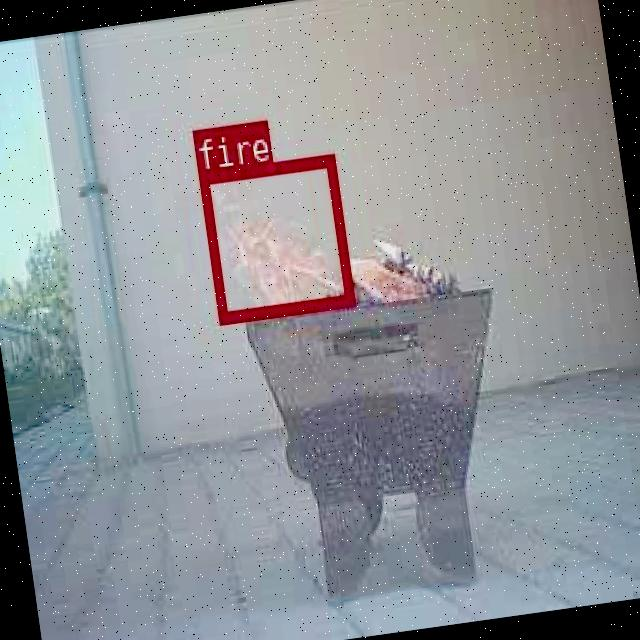fire: (196, 152, 352, 323)
